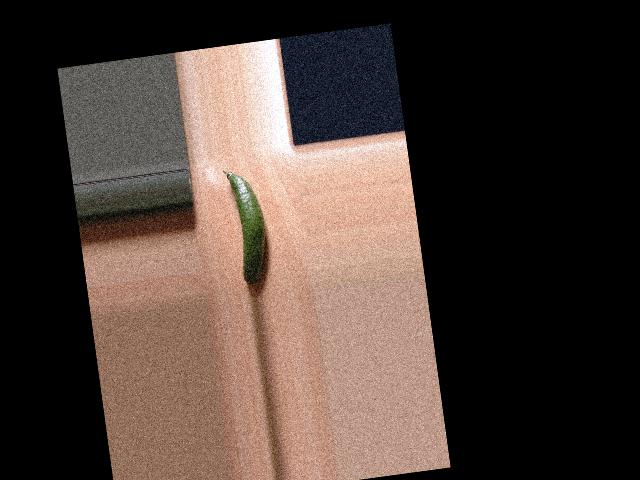cucumber: (223, 164, 273, 287)
